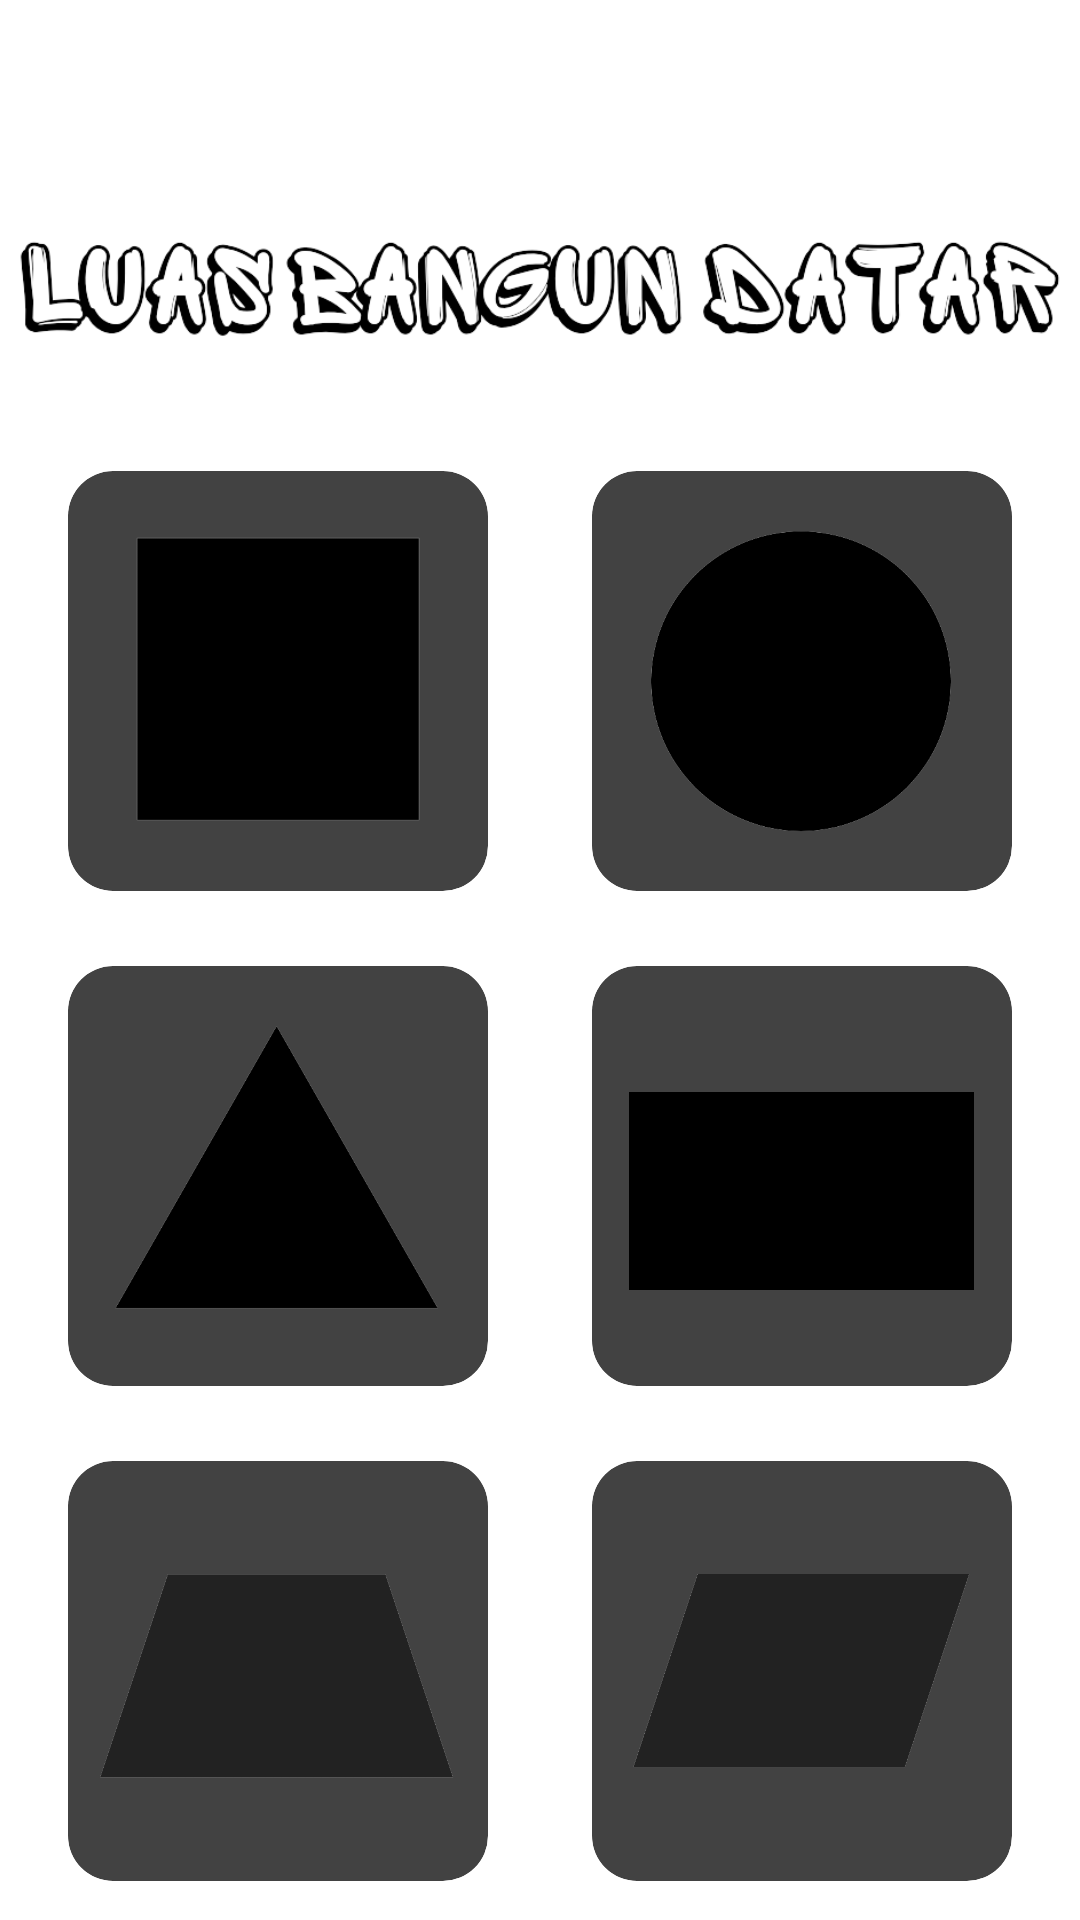

Icons on this 1080px x 1920px Android screen, each with its box as detection(x1, y1, x2, y2):
segitiga: detection(116, 1027, 437, 1308)
